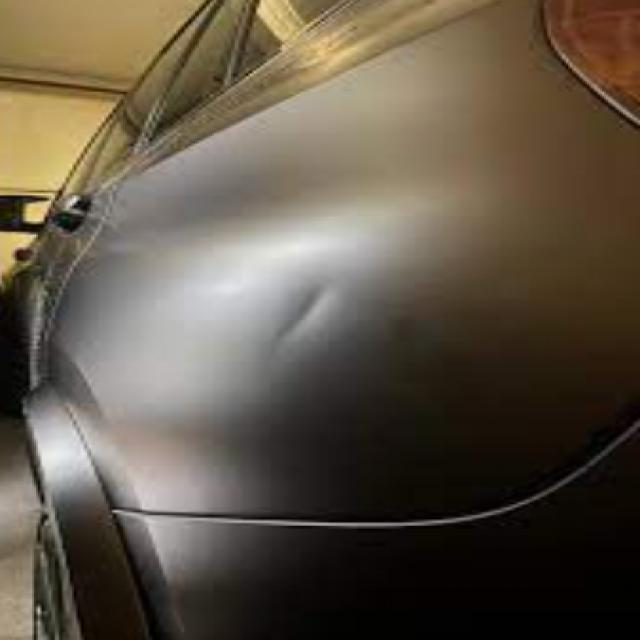dents: (225, 276, 381, 370)
